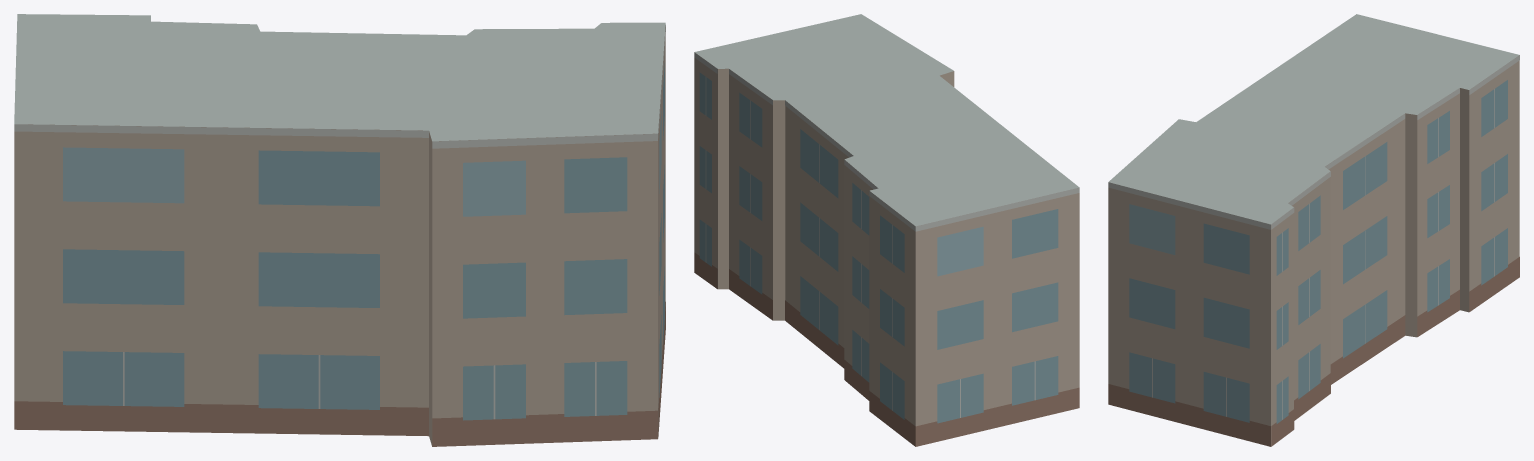
The model's file is survey-upis-32889934.glb.
3 renders of one model, left to right at view 1: azimuth 30°, elevation 25°; view 2: azimuth 150°, elevation 25°; view 3: azimuth 270°, elevation 25°, orthographic. The views are drawn at different scales.
Visible parts, largest first — view 1: survey-upis-32889934.tmp; view 2: survey-upis-32889934.tmp; view 3: survey-upis-32889934.tmp.
Part boxes in pixels (x1,y1,x2,y2): survey-upis-32889934.tmp: (14, 14, 665, 446); survey-upis-32889934.tmp: (694, 14, 1079, 446); survey-upis-32889934.tmp: (1108, 14, 1519, 446).
Bounding box in the file's own units: 20.52 × 10.1 × 16.95.
